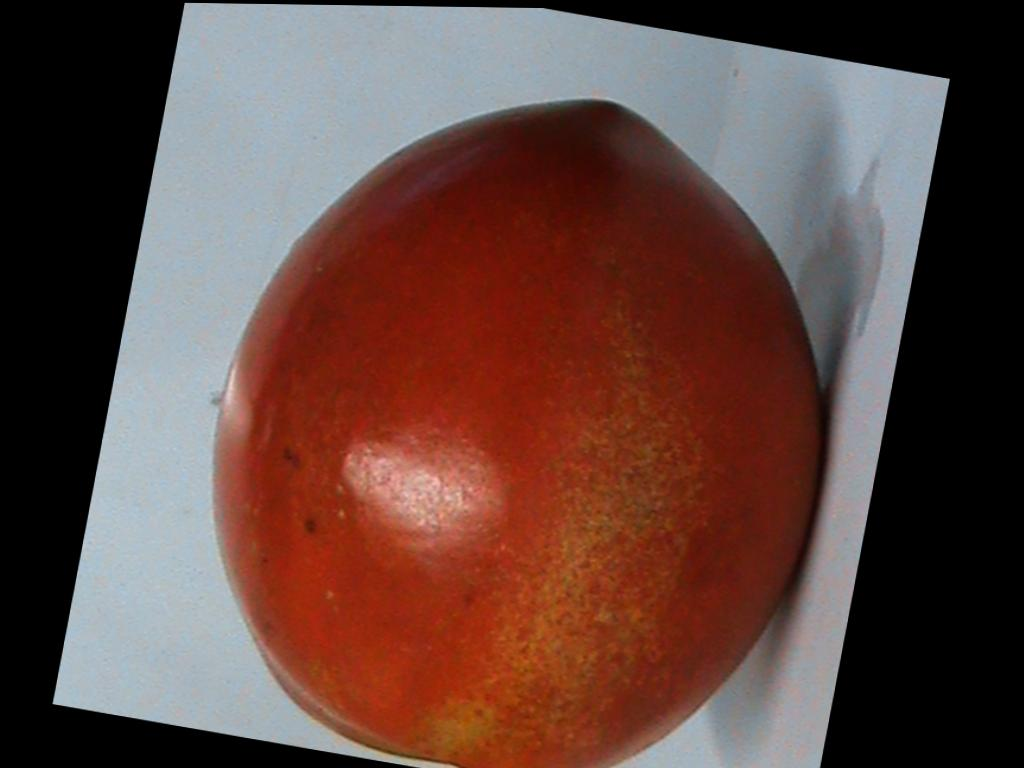bruise_discoloration: (405, 303, 709, 768)
tomato: (215, 99, 819, 768)
